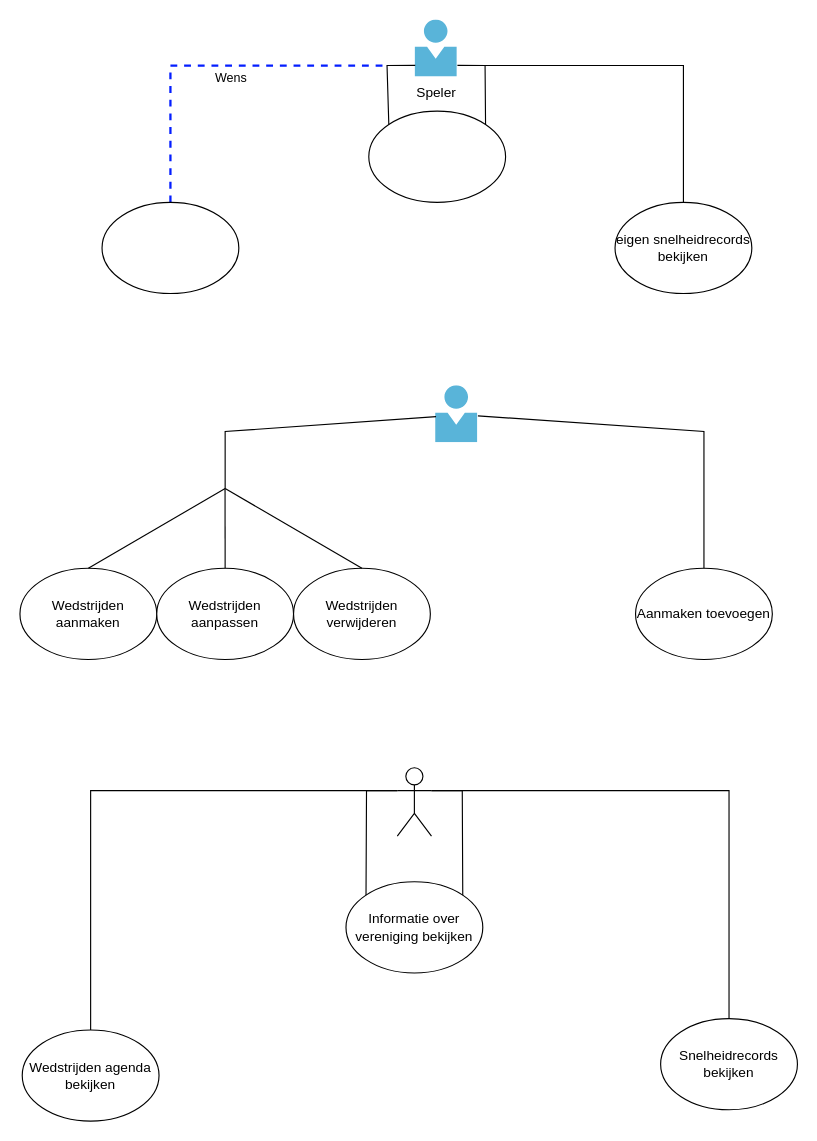
This 817x1141 diagram has some shape labels left out. The shapes that lost their labels are listed below. From the top down, each one's centre as x and y in pixels, then its label:
At (437,156): "Informatie over zichzelf bekijken".
At (170,247): "informatie over zichzelf aanpassen".
At (456,413): "Admin".
At (413,801): "Niet ingelogd".
